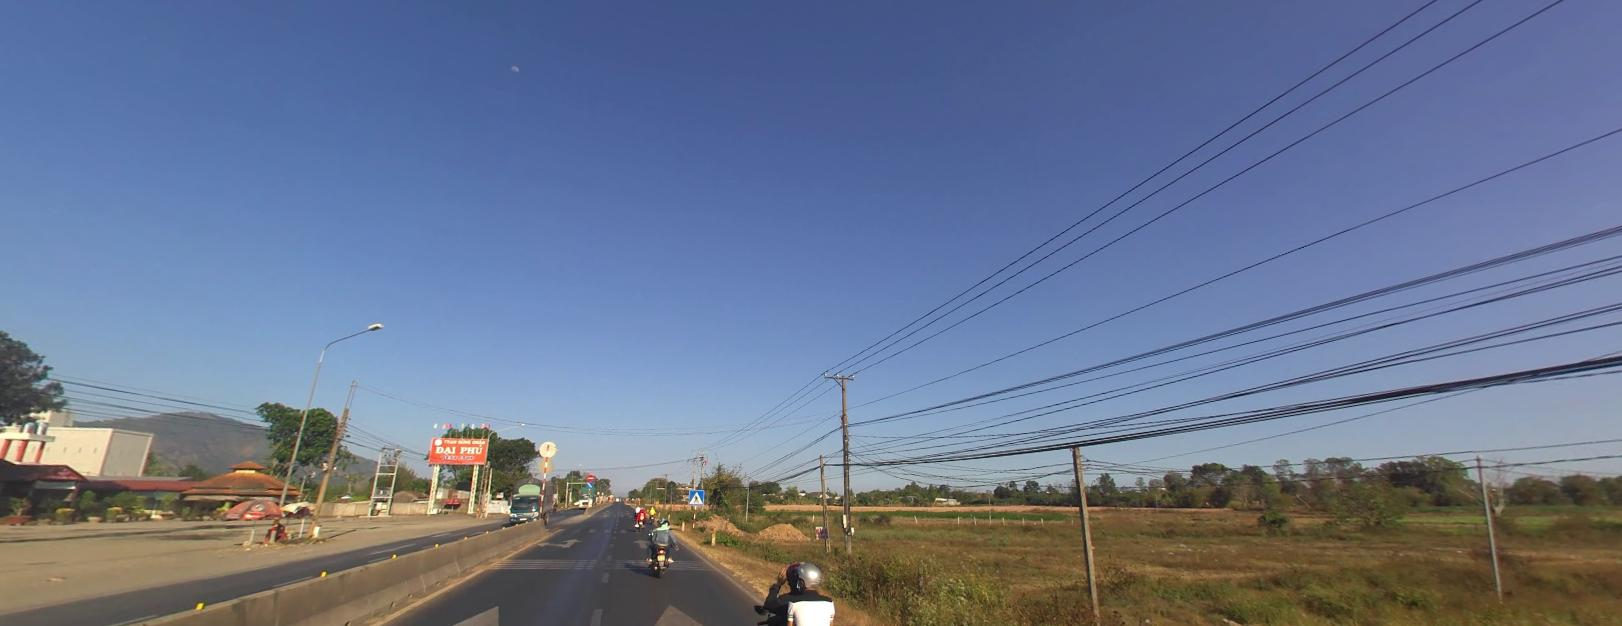Cam nguoc chieu: (585, 473, 593, 480)
Hieu lenh: (585, 480, 592, 487)
